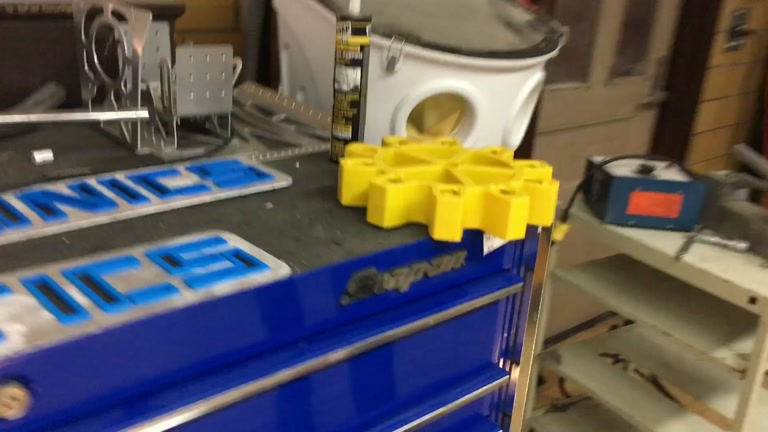gear: (340, 132, 560, 243)
